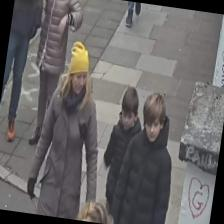person: (22, 36, 118, 222), (108, 89, 183, 224), (94, 83, 147, 224)
